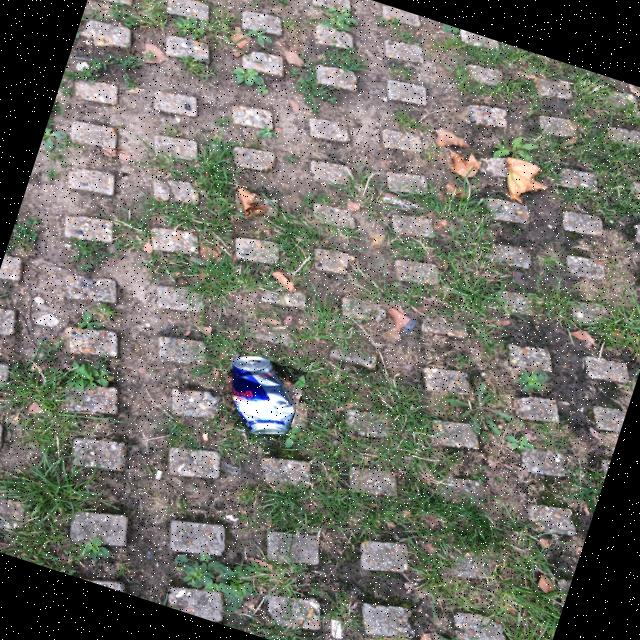Cigarette: (156, 471, 162, 479)
Drink can: (232, 358, 294, 436)
